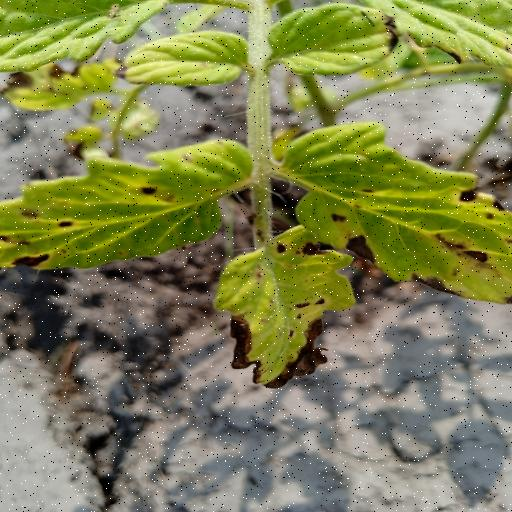Tomato_Brown_Spots: (274, 119, 512, 305), (0, 135, 257, 275), (214, 223, 359, 391)
